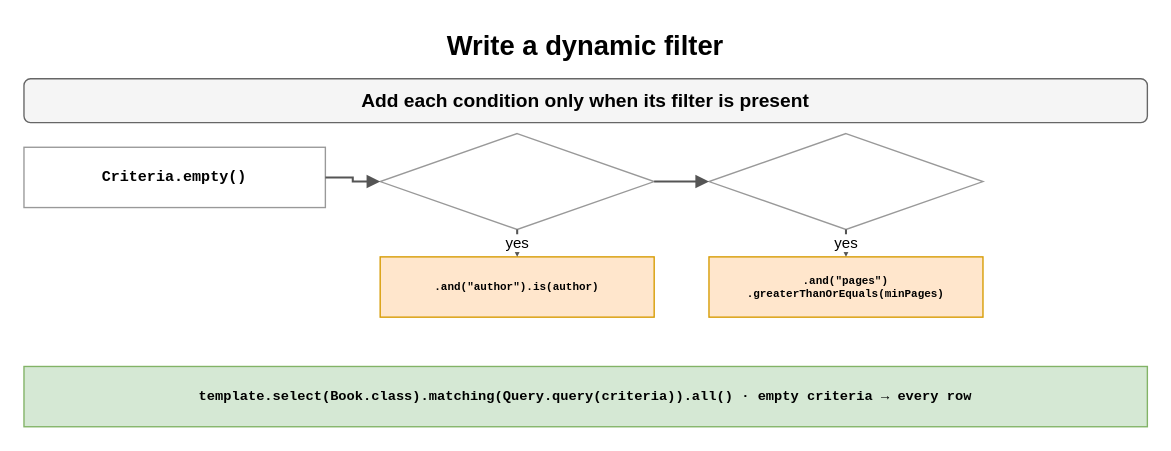
This 1171x451 diagram has some shape labels left out. Here are the shapes that lost their labels. From the top down, the centre of each, then its label:
At point 516,180: "author != null?".
At point 845,180: "minPages != null?".
